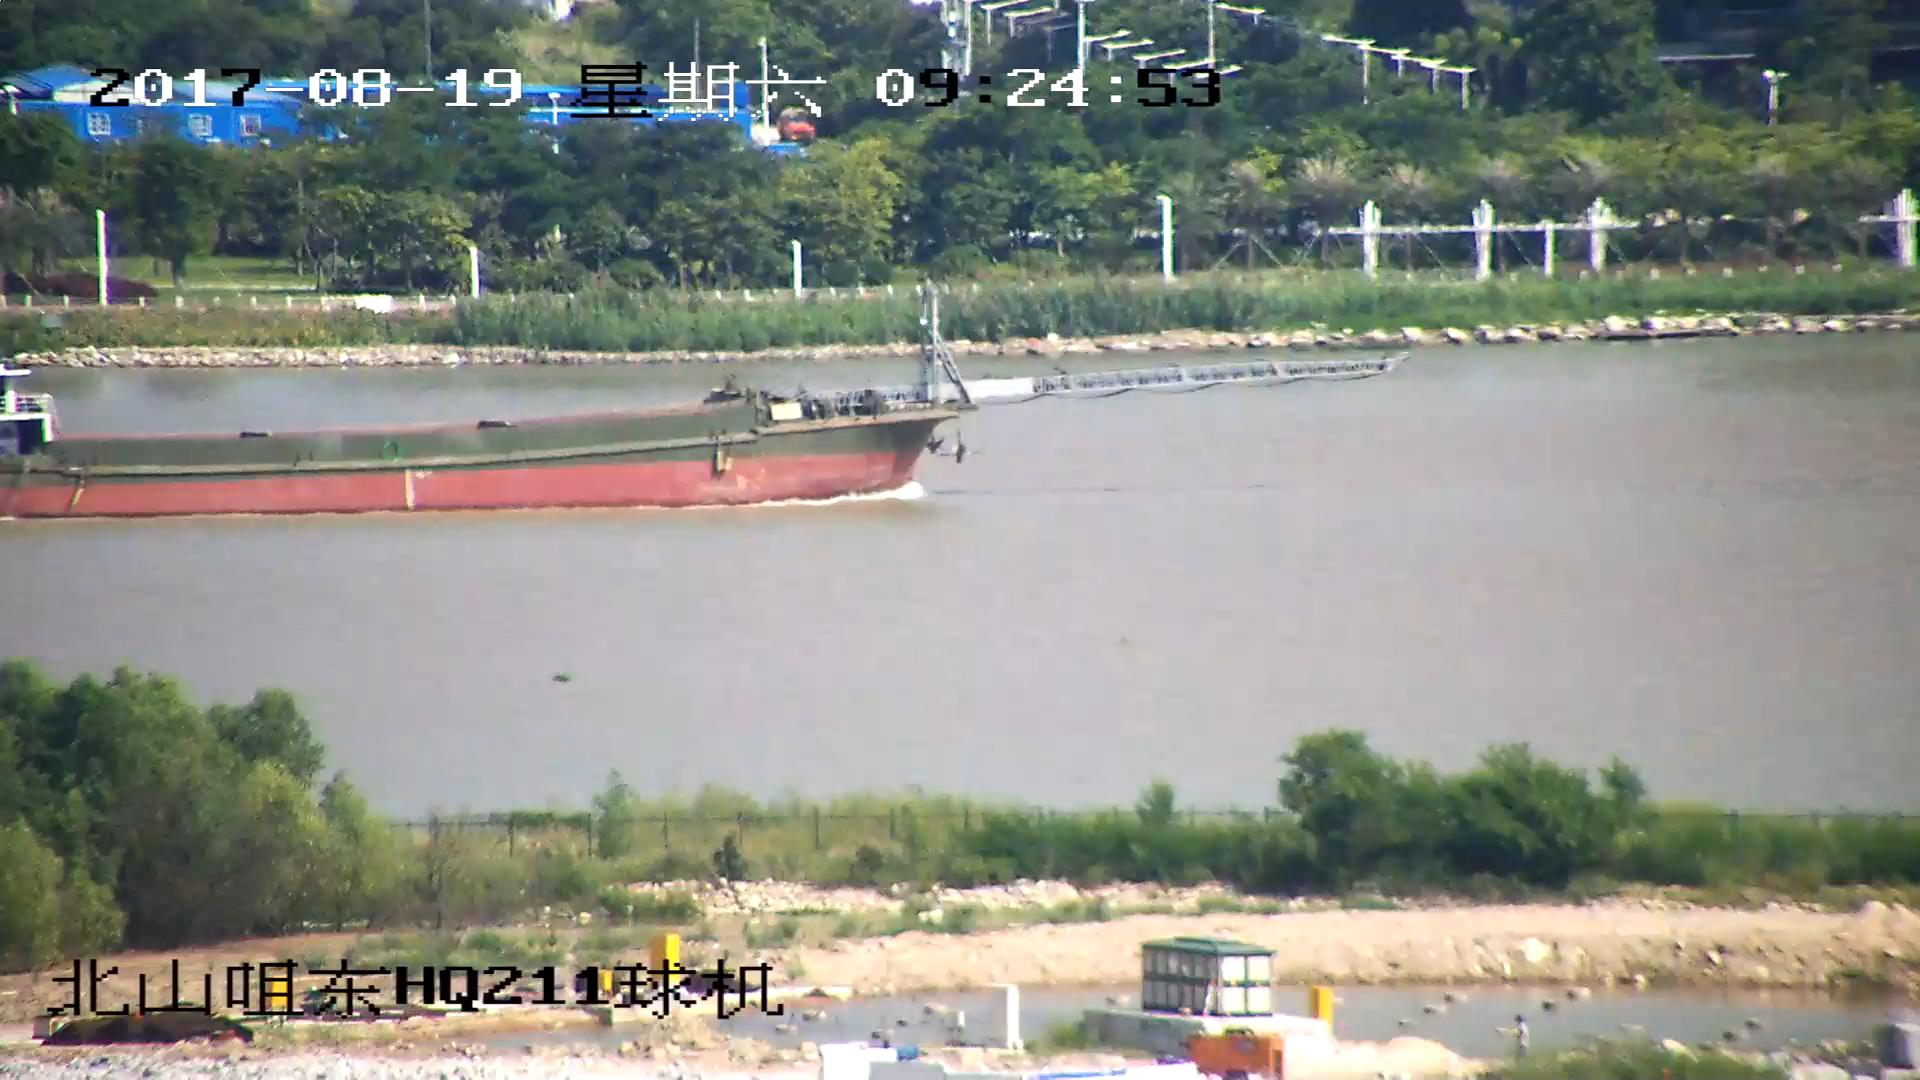bulk cargo carrier: (1, 283, 1387, 518)
